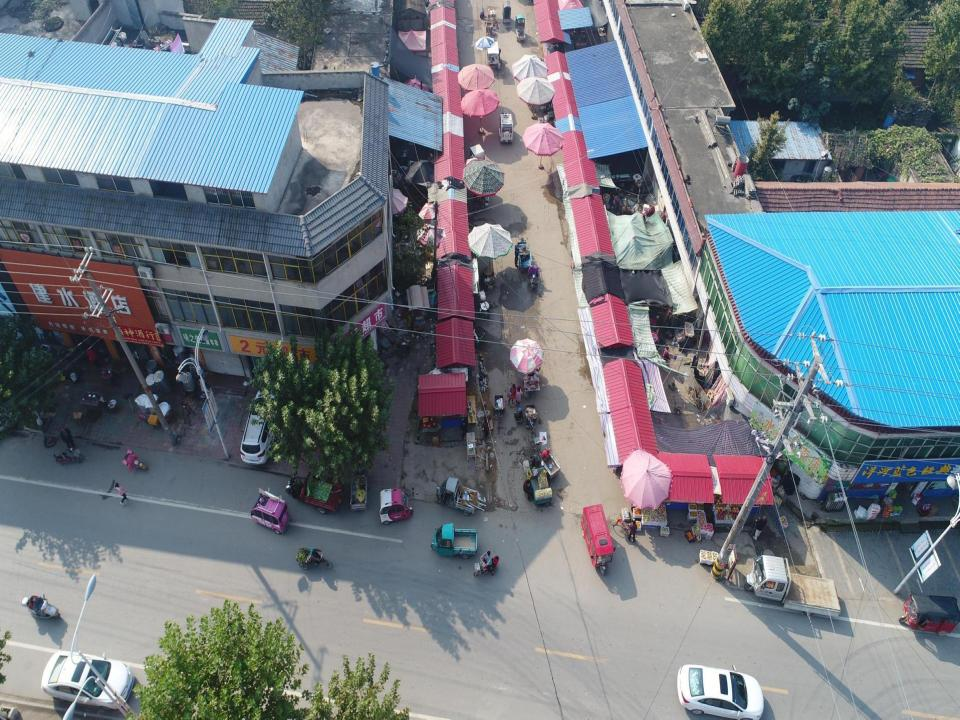car: (37, 646, 137, 707), (676, 660, 764, 719), (240, 386, 282, 464)
